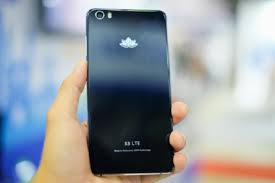bphone: (81, 4, 177, 178)
